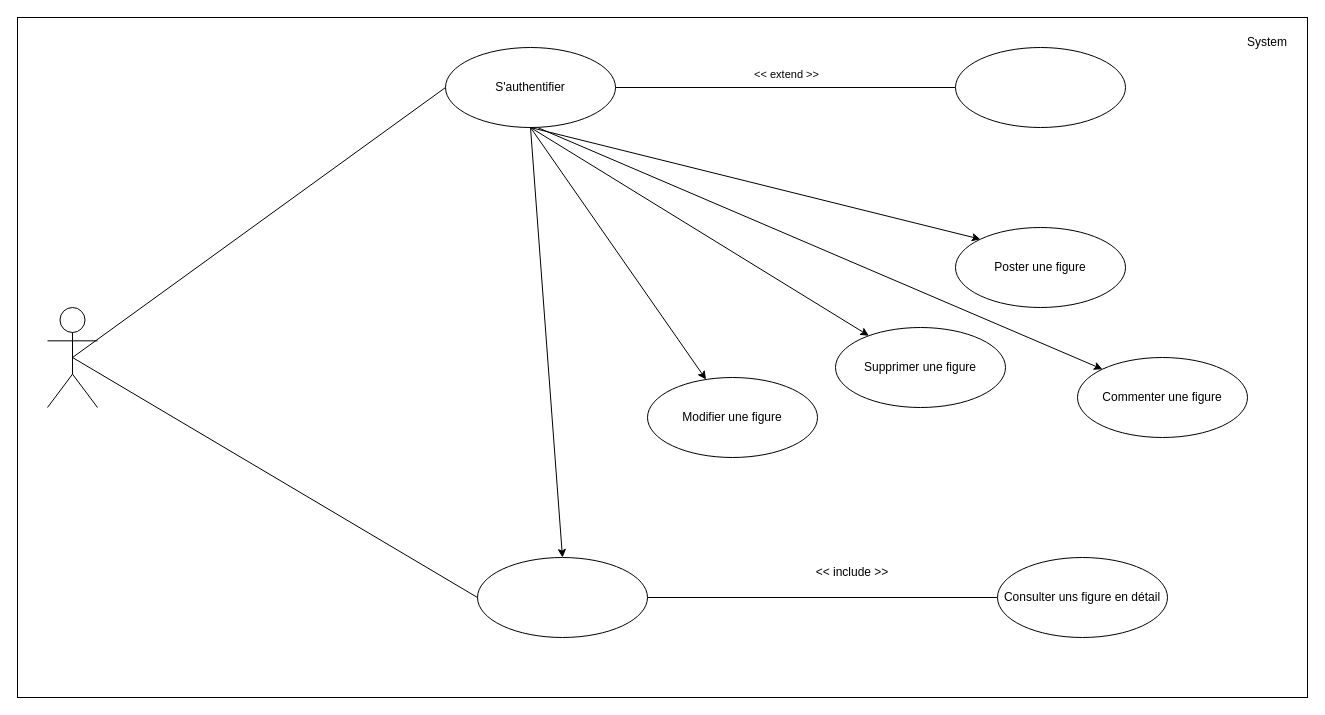
This 1325x715 diagram has some shape labels left out. The shapes that lost their labels are listed below. From the top down, each one's box as (x1, y1, x2, y2) in pixels, then its label:
(954, 46, 1126, 128): S'inscrire
(46, 306, 98, 408): Utilisateur
(476, 556, 648, 638): Lister les figures publiés
